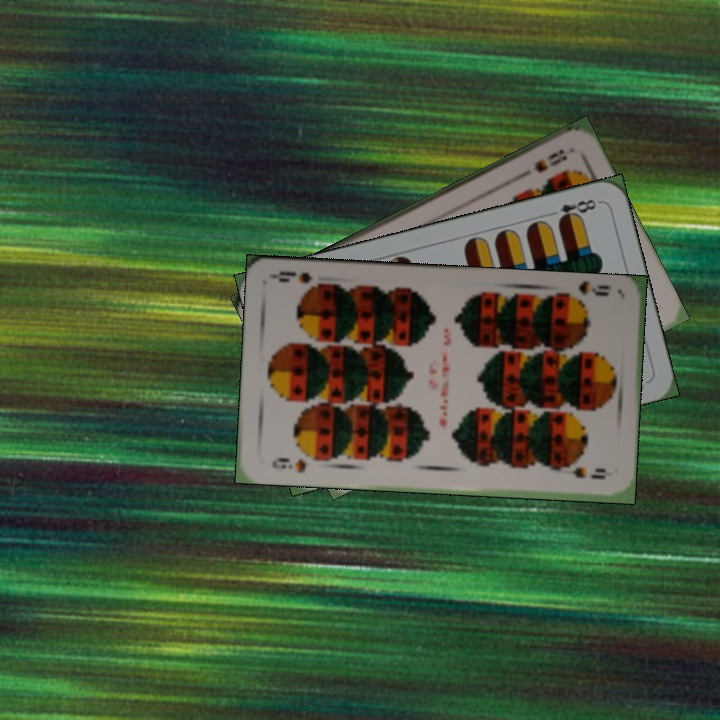E8: (544, 195, 599, 226)
S8: (530, 145, 570, 175)
S9: (268, 454, 309, 475), (574, 279, 613, 299)
